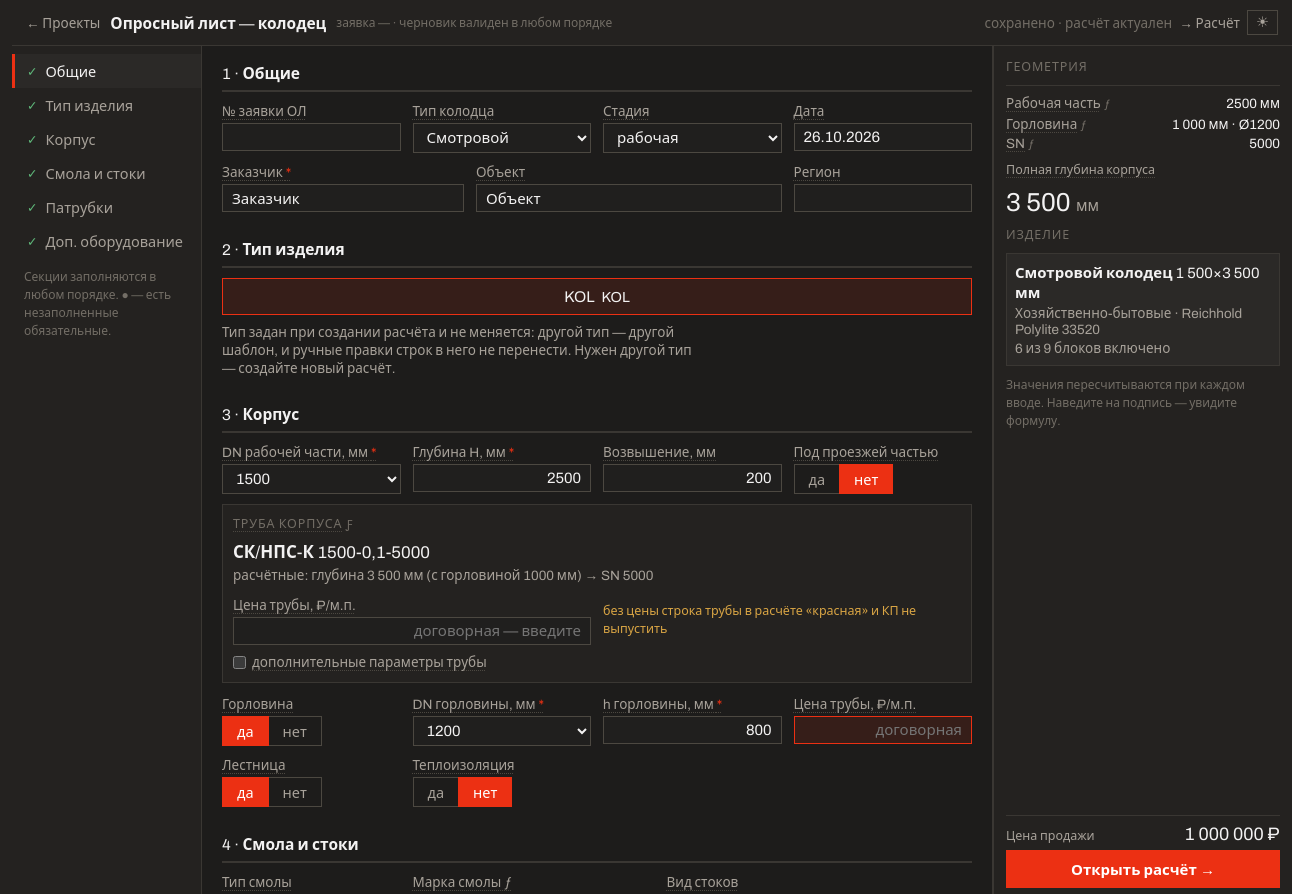
Test case: ОЛ КОЛ: автосохранение › расчёт отложен — статус говорит, что он пересоберётся позже
Select "2500" in the dropdown labelled "DN рабочей части, мм *" at (311, 479), box [222,464,400,494]
Wait 710 ms
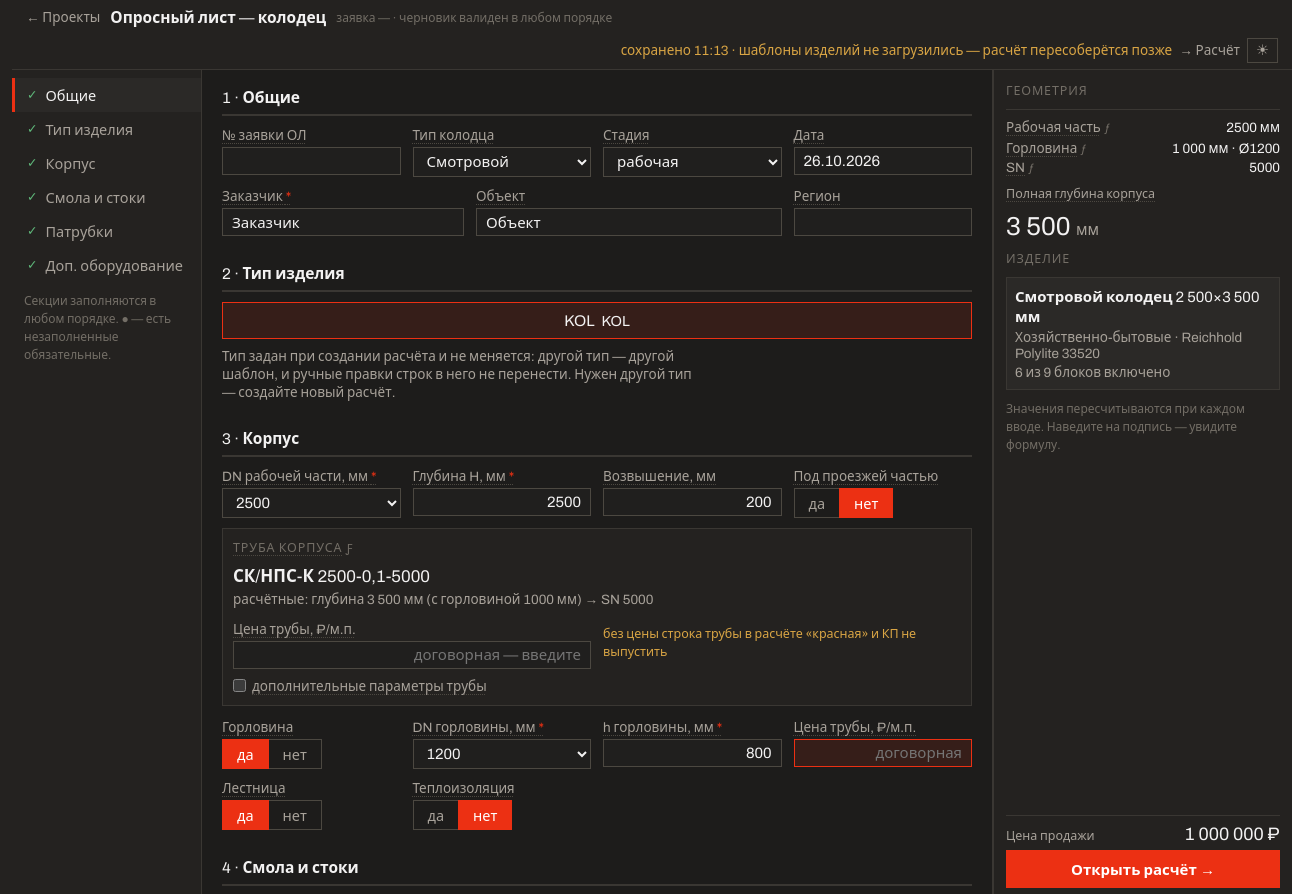
Now the text with class "ol-draft" shows "шаблоны изделий не загрузились — расчёт пересоберётся позже", box [621,43,1172,58]
